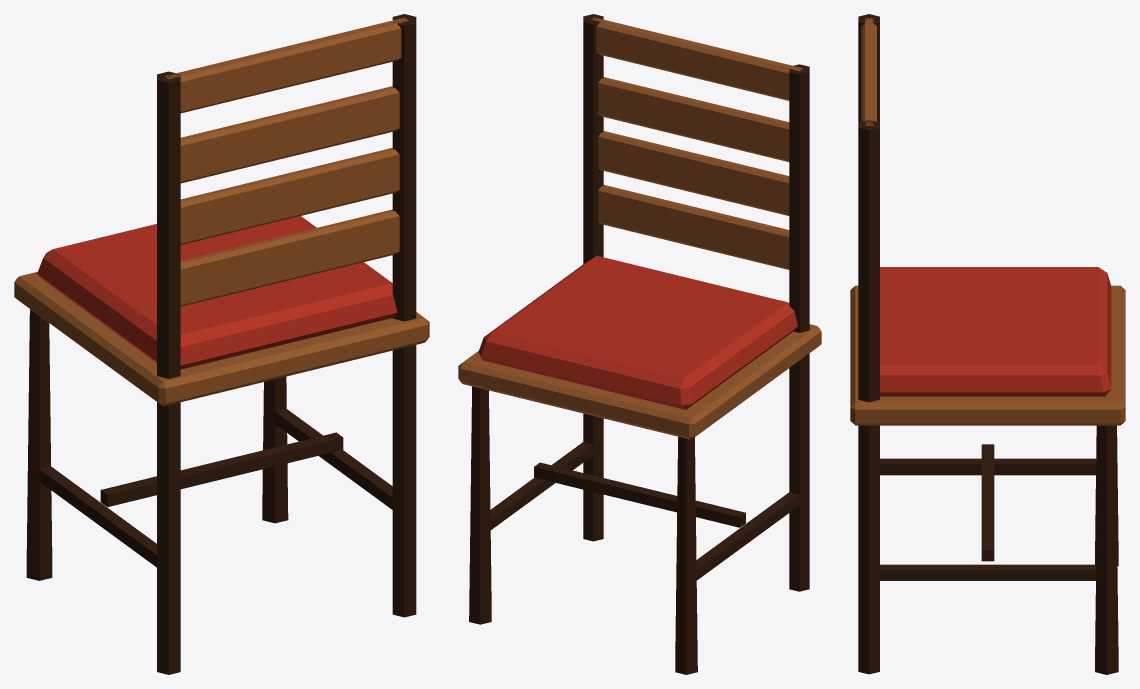
The model's file is INTERIOR_01_Chair.obj.
3 renders of one model, left to right at view 1: azimuth 30°, elevation 25°; view 2: azimuth 150°, elevation 25°; view 3: azimuth 270°, elevation 25°, orthographic. The views are drawn at different scales.
Visible parts, largest first — view 1: INTERIOR_01_Chair_Backrest, INTERIOR_01_Chair_Legs, INTERIOR_01_Chair_Seat_Cushion, INTERIOR_01_Chair_Seat, INTERIOR_01_Chair_Stretchers; view 2: INTERIOR_01_Chair_Backrest, INTERIOR_01_Chair_Seat_Cushion, INTERIOR_01_Chair_Legs, INTERIOR_01_Chair_Seat, INTERIOR_01_Chair_Stretchers; view 3: INTERIOR_01_Chair_Seat_Cushion, INTERIOR_01_Chair_Legs, INTERIOR_01_Chair_Seat, INTERIOR_01_Chair_Stretchers, INTERIOR_01_Chair_Backrest.
Part boxes in pixels (bbox=[...]): INTERIOR_01_Chair_Backrest: bbox=[164, 17, 408, 306]; INTERIOR_01_Chair_Legs: bbox=[26, 14, 416, 674]; INTERIOR_01_Chair_Seat_Cushion: bbox=[37, 216, 397, 369]; INTERIOR_01_Chair_Seat: bbox=[14, 272, 429, 406]; INTERIOR_01_Chair_Stretchers: bbox=[39, 409, 392, 567]; INTERIOR_01_Chair_Backrest: bbox=[590, 17, 802, 269]; INTERIOR_01_Chair_Seat_Cushion: bbox=[478, 256, 797, 409]; INTERIOR_01_Chair_Legs: bbox=[469, 14, 809, 674]; INTERIOR_01_Chair_Seat: bbox=[458, 324, 821, 439]; INTERIOR_01_Chair_Stretchers: bbox=[490, 442, 799, 580]; INTERIOR_01_Chair_Seat_Cushion: bbox=[880, 267, 1111, 396]; INTERIOR_01_Chair_Legs: bbox=[858, 14, 1118, 674]; INTERIOR_01_Chair_Seat: bbox=[850, 285, 1125, 425]; INTERIOR_01_Chair_Stretchers: bbox=[880, 444, 1096, 580]; INTERIOR_01_Chair_Backrest: bbox=[861, 18, 876, 125].
Size of the model in its own units: 0.46 by 0.96 by 0.44.
